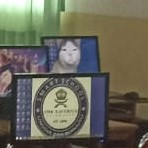monitor: (0, 34, 101, 104), (11, 72, 110, 143), (0, 45, 50, 116), (40, 34, 100, 73), (0, 45, 50, 74)
